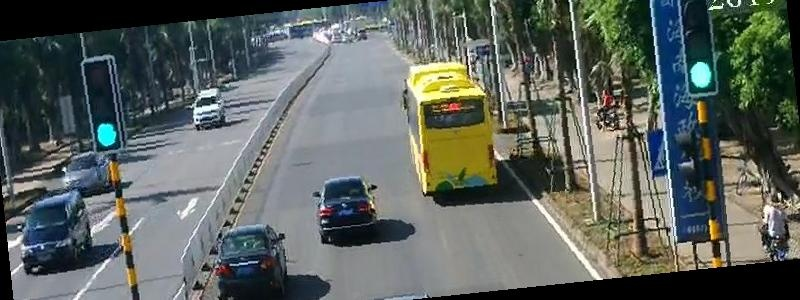green: (687, 59, 717, 91), (94, 123, 119, 148)
